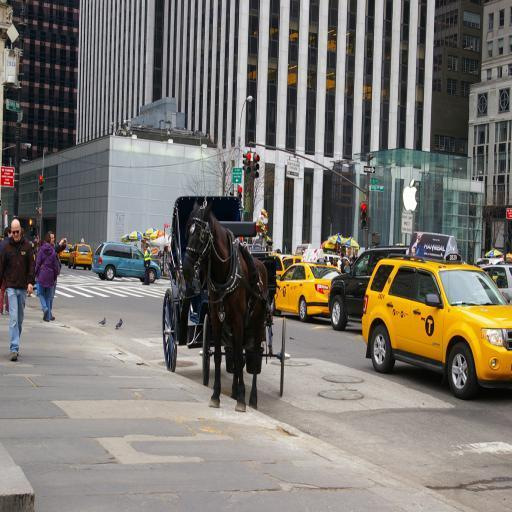horse: (182, 200, 268, 416)
